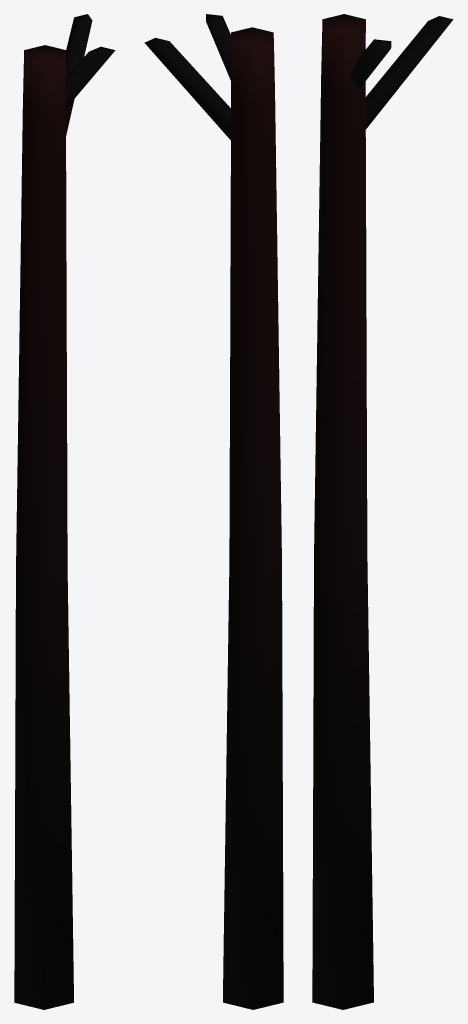
Rendered from broadleaf_c_mid.glb.
3 views of the same model, side by side, from view 1: azimuth 30°, elevation 25°; view 2: azimuth 150°, elevation 25°; view 3: azimuth 330°, elevation 25° (orthographic). The views are drawn at different scales.
Parts seen in each view (by area): view 1: broadleaf_c_mid; view 2: broadleaf_c_mid; view 3: broadleaf_c_mid.
Part boxes in pixels (left/top/right/bottom): broadleaf_c_mid: left=14, top=14, right=115, bottom=1009; broadleaf_c_mid: left=144, top=14, right=283, bottom=1009; broadleaf_c_mid: left=312, top=14, right=453, bottom=1009.
Size of the model in its own units: 0.6102 by 5.22 by 0.4677.
1 material, 1 textured.
